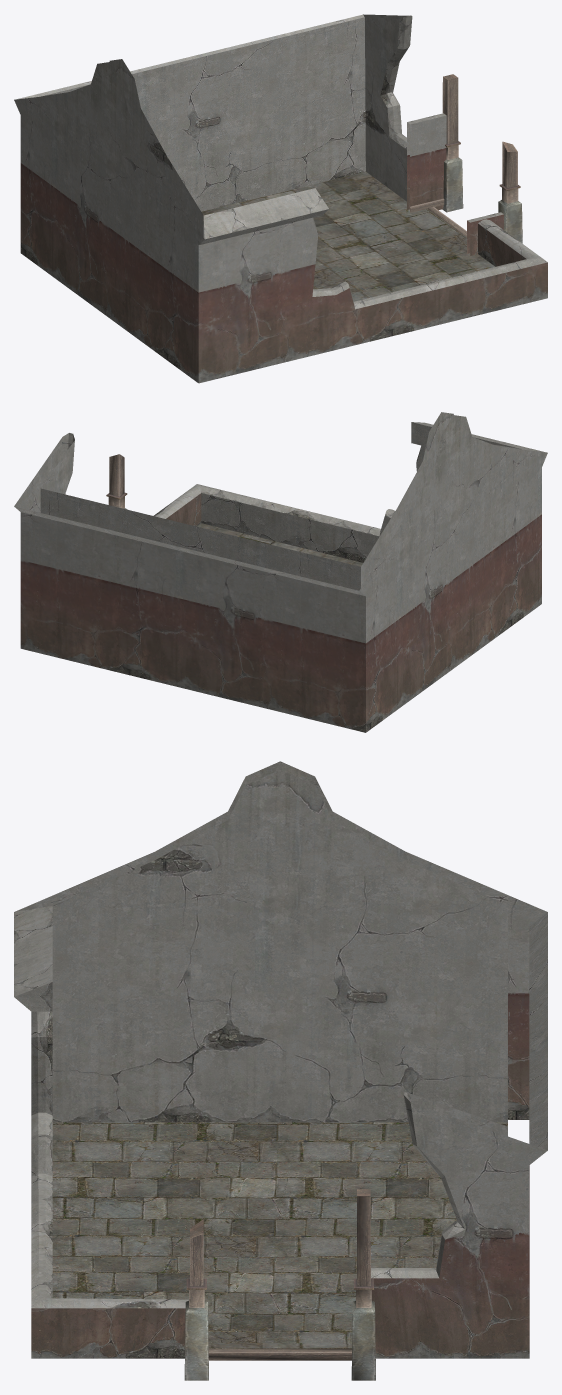
The model's file is bg_anh_mirrorv_bd09_sm_old.FBX.
3 views of the same model, one above another, from view 1: azimuth 30°, elevation 25°; view 2: azimuth 150°, elevation 25°; view 3: azimuth 270°, elevation 25° (orthographic). The views are drawn at different scales.
Parts seen in each view (by area): view 1: bg_anh_mirrorv_bd09_sm_old; view 2: bg_anh_mirrorv_bd09_sm_old; view 3: bg_anh_mirrorv_bd09_sm_old.
Part boxes in pixels (x1,y1,x2,y2): bg_anh_mirrorv_bd09_sm_old: [14, 14, 547, 383]; bg_anh_mirrorv_bd09_sm_old: [14, 412, 547, 732]; bg_anh_mirrorv_bd09_sm_old: [14, 761, 547, 1380].
Size of the model in its own units: 982 by 638 by 856.
